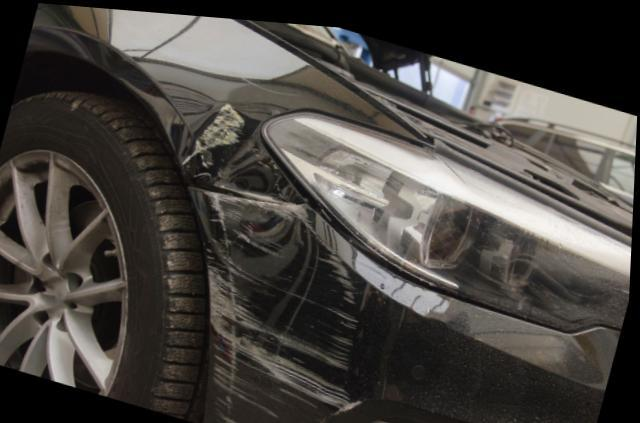scratch: (203, 186, 364, 423), (182, 95, 310, 201)
